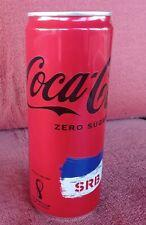metal: (26, 12, 112, 218)
